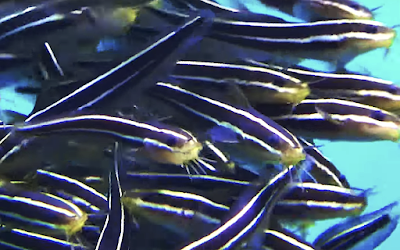gonzui: (12, 115, 213, 174)
